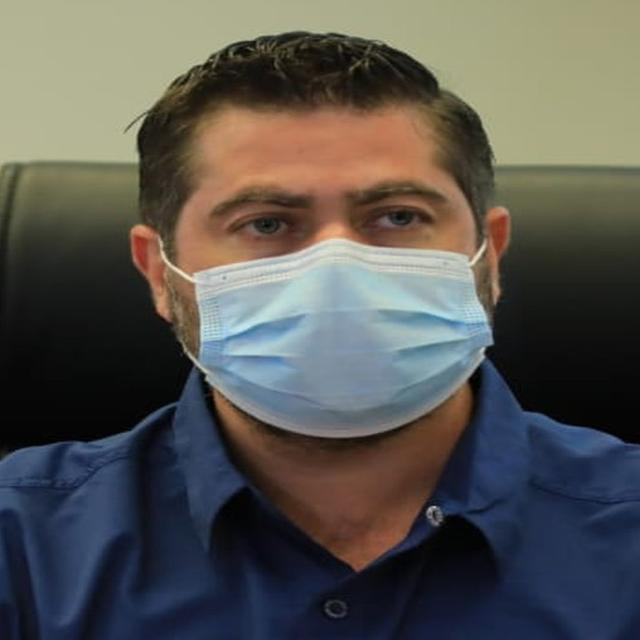1_mascarilla: (190, 246, 493, 436)
